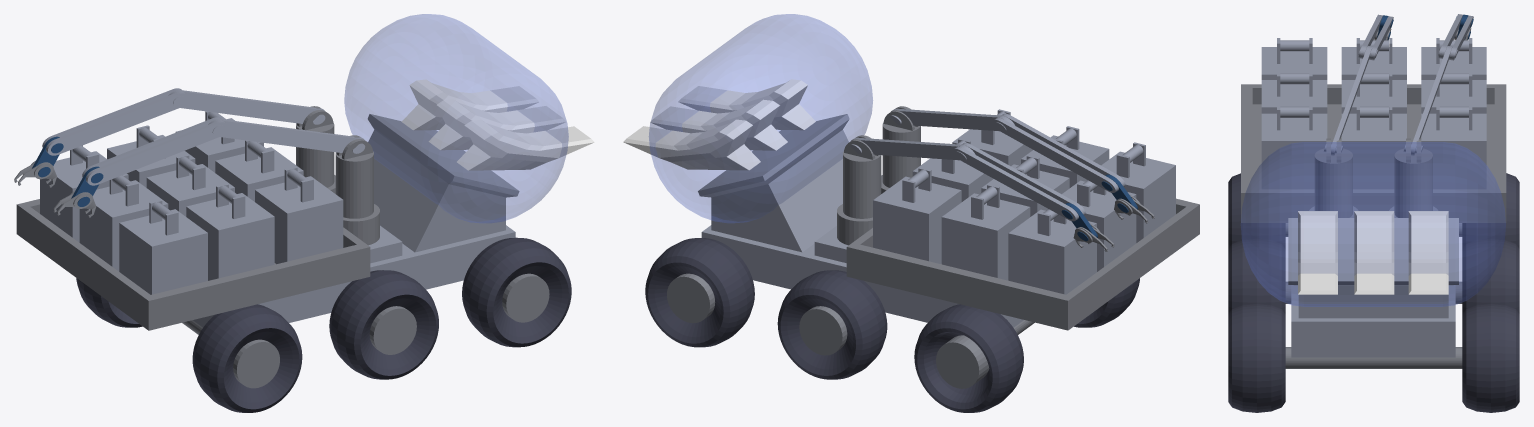
File: SingleBuggy_01.glb
3 views of the same model, side by side, from view 1: azimuth 30°, elevation 25°; view 2: azimuth 150°, elevation 25°; view 3: azimuth 270°, elevation 25° (orthographic).
Visible parts, largest first — view 1: Sphere.002, Torus.001, Cube.003, Cube.001, Cube.012, Cube.006, Cube.009, Cube, Cube.014, Cube.010, Cylinder.001, Cube.015 (+14 smaller); view 2: Sphere.002, Torus.001, Cube.003, Cube.001, Cube.005, Cube.011, Cube.008, Cube, Cube.016, Cube.012, Cylinder, Cube.014 (+12 smaller); view 3: Sphere.002, Torus.001, Cube.003, Cube.001, Cube, Cube.006, Cube.005, Cube.004, Cube.015, Cube.016, Cube.014, Cylinder.001 (+11 smaller).
Part boxes in pixels (x1,y1,x2,y2): Sphere.002: [344, 14, 568, 223]; Torus.001: [76, 237, 571, 412]; Cube.003: [16, 199, 370, 330]; Cube.001: [367, 114, 519, 252]; Cube.012: [119, 199, 207, 294]; Cube.006: [255, 166, 343, 264]; Cube.009: [186, 183, 274, 280]; Cube: [193, 225, 515, 327]; Cube.014: [457, 119, 594, 170]; Cube.010: [79, 175, 168, 271]; Cylinder.001: [335, 135, 379, 245]; Cube.015: [428, 99, 566, 150]; Sphere.002: [649, 14, 872, 222]; Torus.001: [645, 238, 1139, 412]; Cube.003: [846, 198, 1199, 330]; Cube.001: [698, 114, 849, 252]; Cube.005: [873, 167, 961, 263]; Cube.011: [1008, 209, 1096, 294]; Cube.008: [941, 184, 1030, 280]; Cube: [701, 225, 1023, 327]; Cube.016: [623, 119, 760, 170]; Cube.012: [1101, 142, 1175, 242]; Cylinder: [837, 135, 881, 245]; Cube.014: [678, 79, 815, 130]; Sphere.002: [1241, 142, 1505, 306]; Torus.001: [1228, 173, 1519, 412]; Cube.003: [1241, 84, 1506, 222]; Cube.001: [1288, 218, 1458, 318]; Cube: [1291, 285, 1455, 357]; Cube.006: [1261, 104, 1327, 189]; Cube.005: [1421, 104, 1486, 189]; Cube.004: [1341, 104, 1406, 189]; Cube.015: [1354, 211, 1394, 294]; Cube.016: [1408, 211, 1448, 294]; Cube.014: [1298, 211, 1337, 294]; Cylinder.001: [1309, 138, 1358, 217].
Size of the model in its own units: 3.36 by 1.65 by 1.7.
